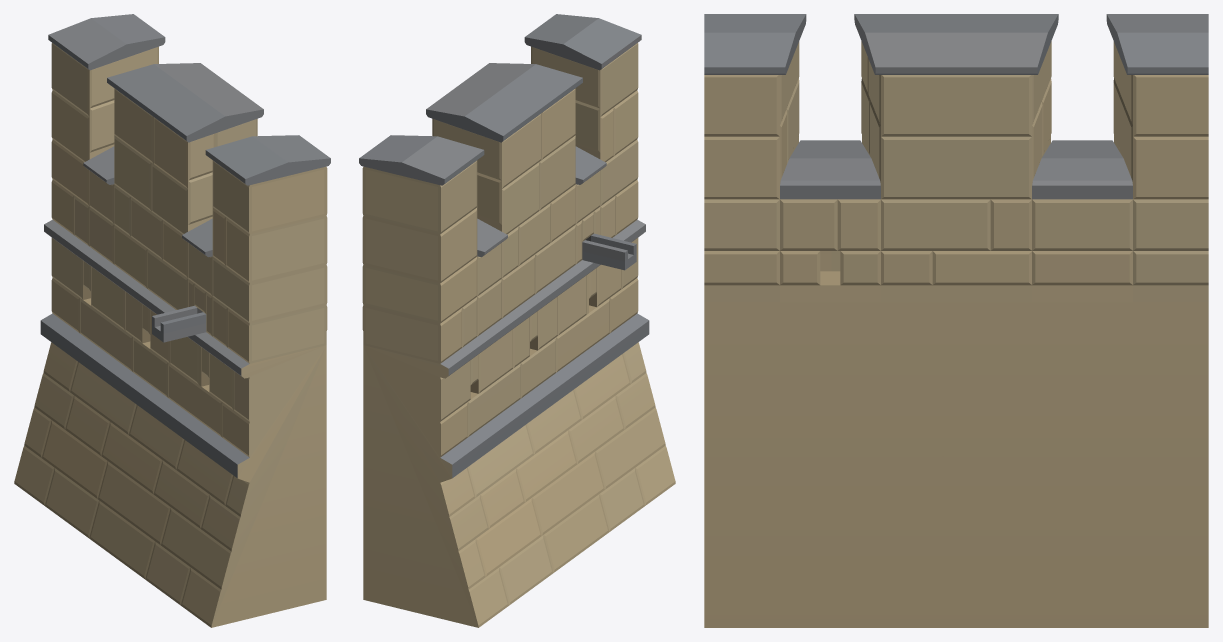
The picture shows the model from 3 angles, left to right: view 1: azimuth 30°, elevation 25°; view 2: azimuth 150°, elevation 25°; view 3: azimuth 270°, elevation 25°; orthographic projection. The views are drawn at different scales.
Visible parts, largest first — view 1: Mesh_Limestone, Mesh_Granite; view 2: Mesh_Limestone, Mesh_Granite; view 3: Mesh_Limestone, Mesh_Granite.
Part boxes in pixels (left/top/right/bottom): Mesh_Limestone: left=14, top=43, right=327, bottom=627; Mesh_Granite: left=40, top=14, right=330, bottom=477; Mesh_Limestone: left=362, top=43, right=675, bottom=627; Mesh_Granite: left=359, top=14, right=649, bottom=477; Mesh_Limestone: left=704, top=41, right=1208, bottom=627; Mesh_Granite: left=704, top=14, right=1208, bottom=199.
Size of the model in its own units: 1.45 by 5 by 4.
